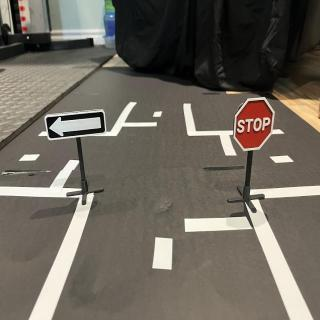sign_oneway_left: (46, 108, 108, 142)
sign_stop: (235, 98, 277, 152)
